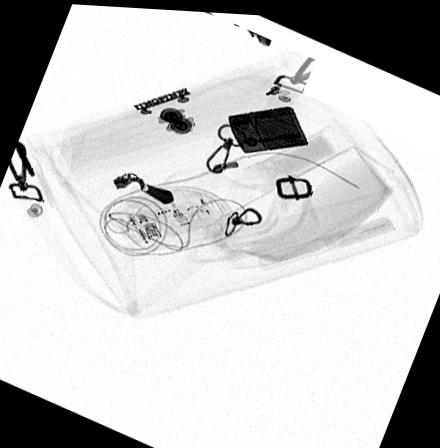Lighter: (227, 101, 307, 149)
